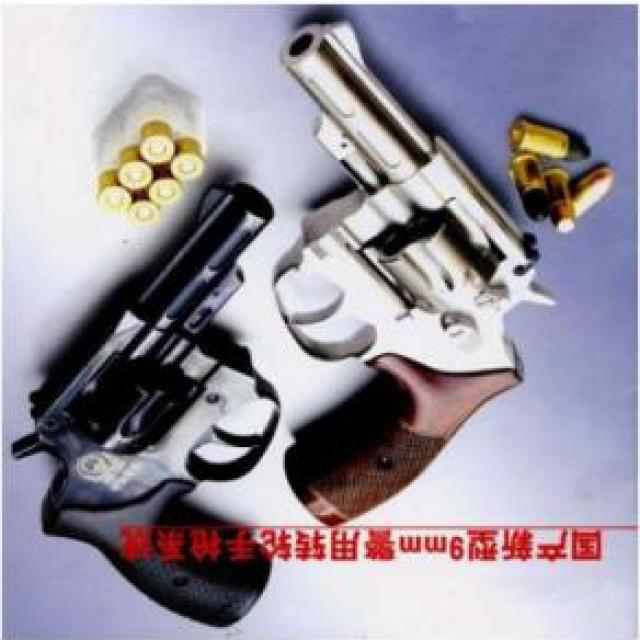pistol: (274, 16, 557, 530), (10, 180, 280, 627)
